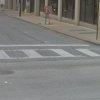Crosswalk: (6, 40, 98, 70)
